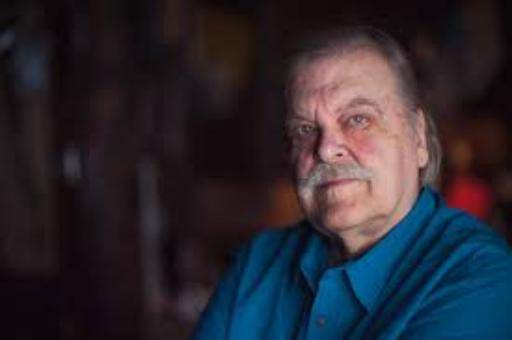left_eye: (342, 111, 374, 128)
left_lip_corner: (350, 176, 372, 189)
right_eye: (293, 124, 317, 138)
